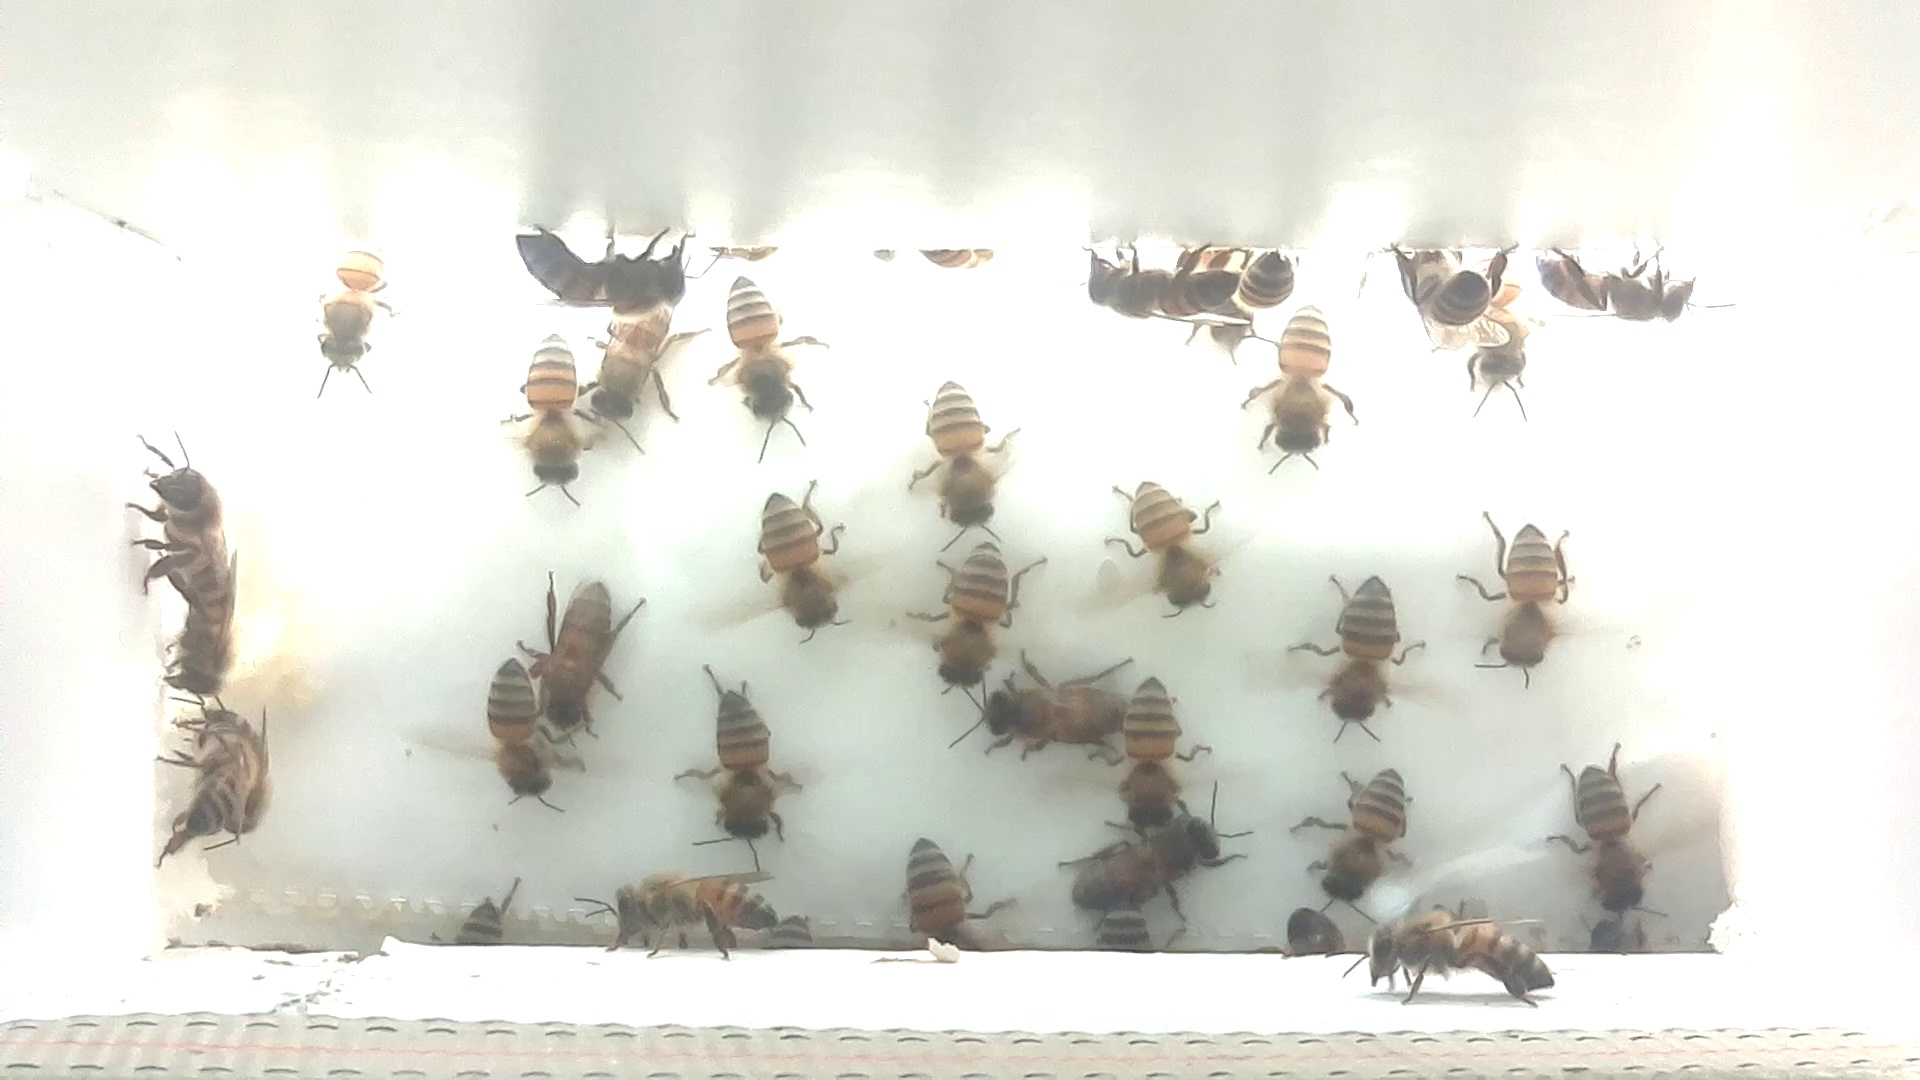bee: (665, 659, 818, 870), (1036, 783, 1258, 924), (1271, 553, 1422, 756), (695, 266, 848, 464), (556, 258, 713, 444), (419, 653, 589, 820), (893, 355, 1029, 560), (1229, 289, 1374, 481), (481, 200, 705, 324), (1338, 887, 1564, 1009), (1556, 736, 1691, 939), (568, 848, 798, 967), (146, 691, 298, 868), (513, 555, 651, 745), (1288, 746, 1440, 918), (724, 471, 868, 645), (909, 521, 1044, 703), (1466, 498, 1588, 700), (948, 650, 1154, 767), (289, 225, 423, 404), (495, 328, 618, 520), (1093, 464, 1238, 624), (862, 824, 1025, 963), (1528, 229, 1727, 339), (1098, 665, 1222, 833), (127, 423, 241, 593), (145, 551, 255, 708), (1379, 222, 1518, 345), (1079, 235, 1245, 338), (1460, 294, 1549, 429), (418, 860, 531, 960), (1232, 229, 1305, 320)
